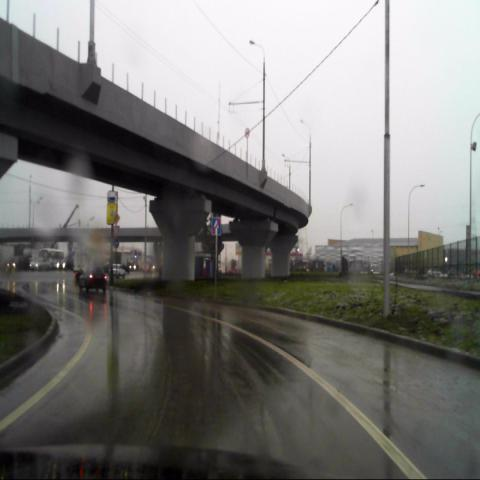5_6: (212, 217, 222, 234)
